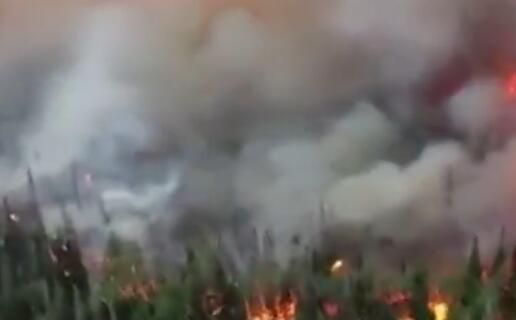fire: (239, 284, 302, 320), (381, 296, 455, 320)
yanwu: (1, 0, 516, 277)
